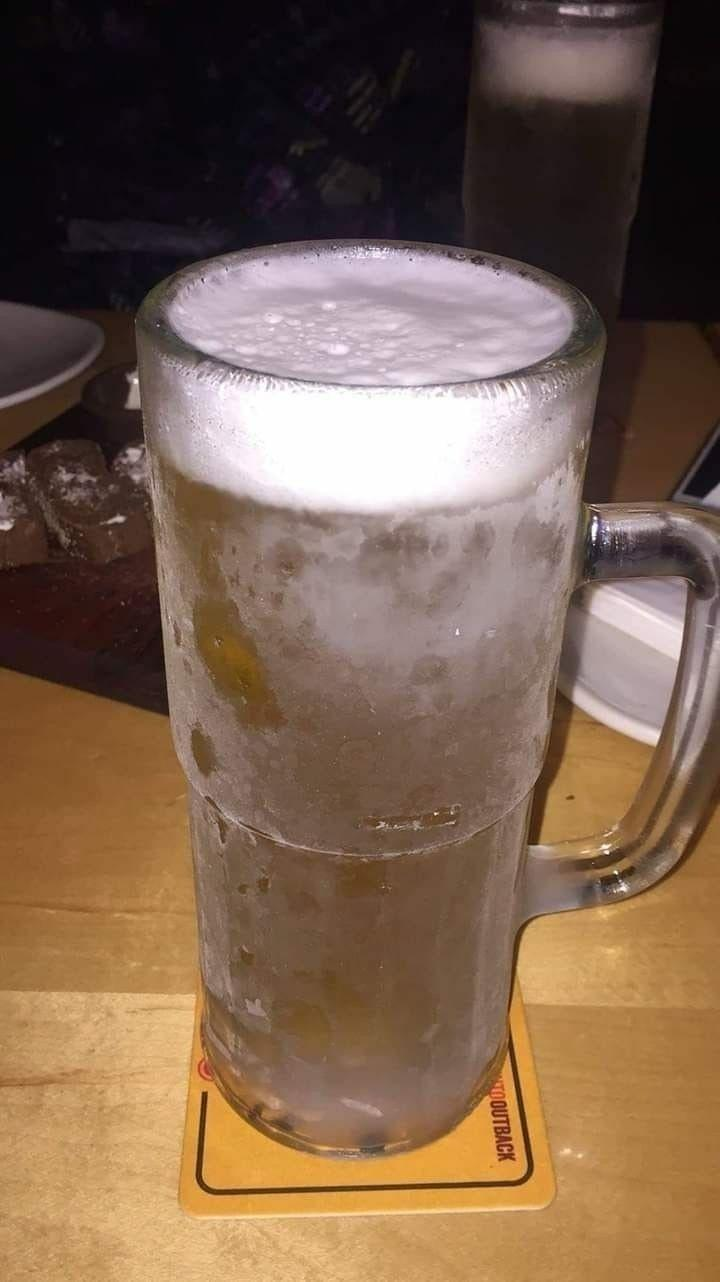glass-mug: (126, 232, 720, 1160)
